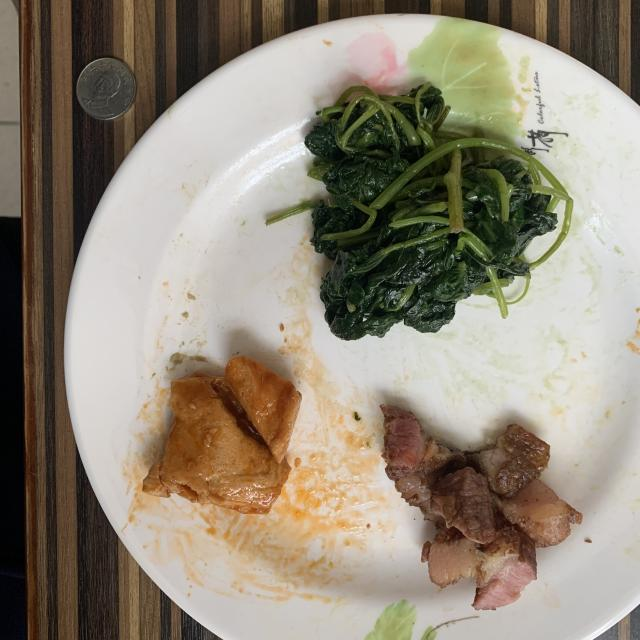coin: (76, 58, 135, 120)
creamy tofu: (142, 356, 301, 514)
grilled pork: (381, 405, 582, 610)
sweet potato leaves: (266, 82, 572, 340)
